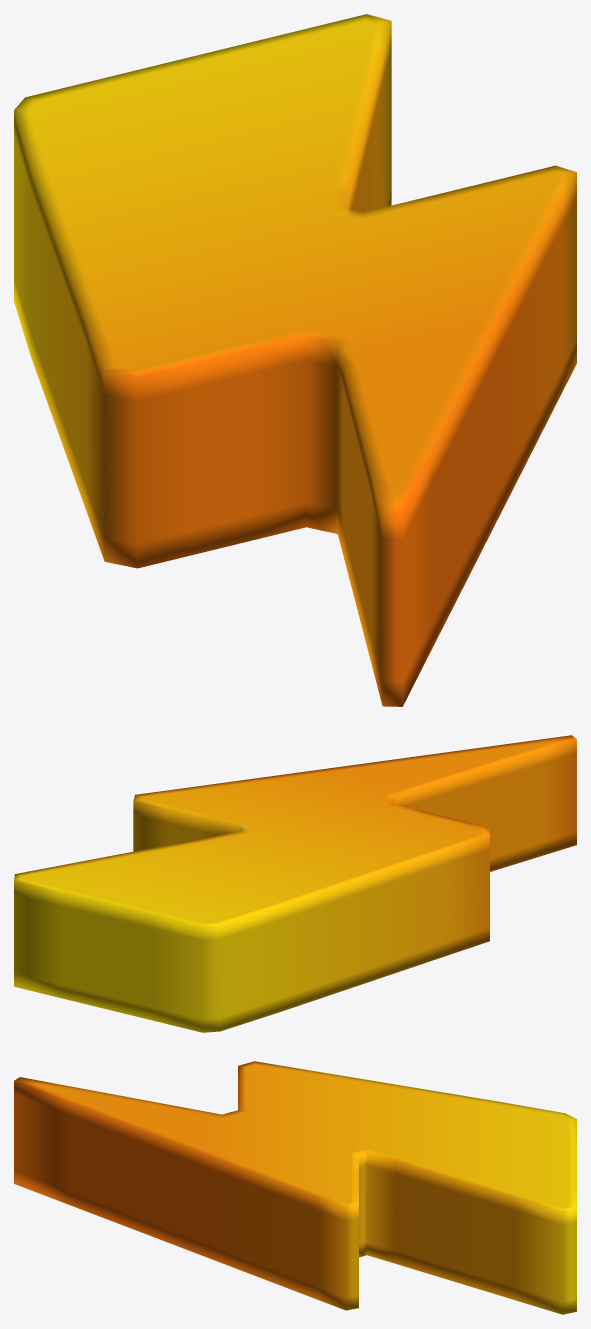
The model's file is Thunder.FBX.
The picture shows the model from 3 angles, top to bottom: view 1: azimuth 30°, elevation 25°; view 2: azimuth 150°, elevation 25°; view 3: azimuth 270°, elevation 25°; orthographic projection. The views are drawn at different scales.
Visible parts, largest first — view 1: Thunder; view 2: Thunder; view 3: Thunder.
Boxes of the visible parts, x1=… form: Thunder: x1=14, y1=14, x2=576, y2=706; Thunder: x1=14, y1=735, x2=576, y2=1032; Thunder: x1=14, y1=1061, x2=576, y2=1314.
Bounding box in the file's own units: 21.52 × 6.86 × 33.98.
1 material, 1 textured.
